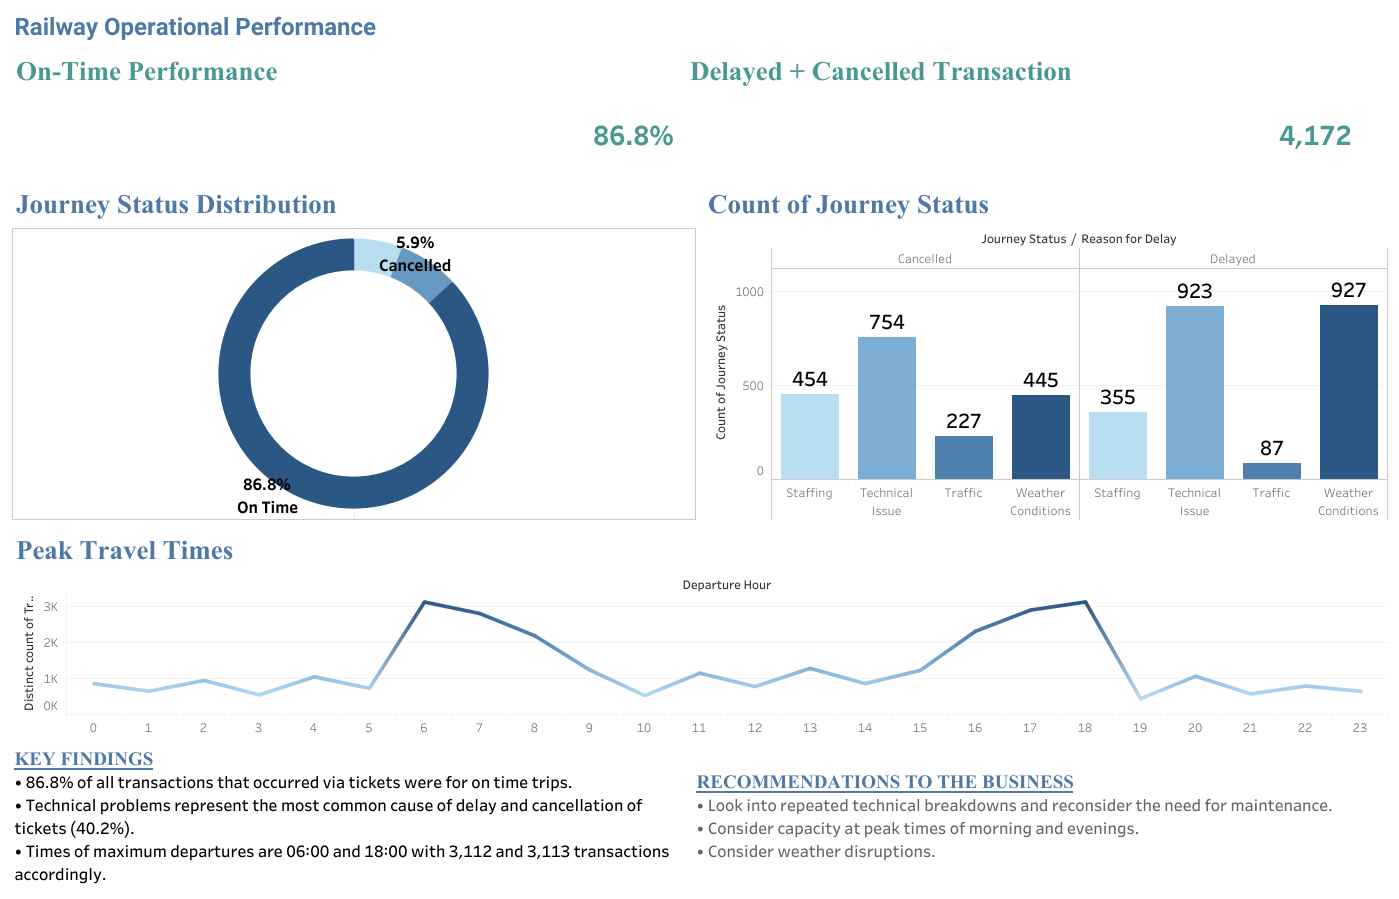

The page's visual inventory and layout, read from the dashboard file:
{"tool":"tableau","page":{"name":"Railway Operational Performance","canvas":[1400,900],"ordinal":0},"visuals":[{"type":"title","box":[8,8,1384,37]},{"type":"worksheet","title":"KPI - On-Time Performance","mark":"Automatic","box":[8,45,674,133.2]},{"type":"worksheet","title":"Sheet 19","mark":"Automatic","box":[682,45,678,133.2]},{"type":"worksheet","title":"Journey Status Distribution","mark":"Pie","cols":["Calculation_0168011082747908","Calculation_0168011082747908"],"box":[8,178.2,692,345.9]},{"type":"worksheet","title":"Contributing Factors","mark":"Automatic","rows":["Journey Status"],"cols":["Journey Status","Reason for Delay"],"box":[700,178.2,692,345.9]},{"type":"worksheet","title":"Peak Travel Times","mark":"Line","rows":["Transaction ID"],"cols":["Calculation_0168011040010243"],"box":[8,524.1,1384,215.9]},{"type":"text","box":[8,740,682,152]},{"type":"text","box":[690,740,702,152]}]}

Visuals, with their boxes in screenshot pixels (x1, y1, x2, y2), scaled from the page's 1400x900 canvas onto the 1399x899 screenshot:
title: BBox(8, 8, 1391, 45)
"KPI - On-Time Performance" worksheet: BBox(8, 45, 682, 178)
"Sheet 19" worksheet: BBox(682, 45, 1359, 178)
"Journey Status Distribution" worksheet (Pie marks): BBox(8, 178, 700, 524)
"Contributing Factors" worksheet: BBox(700, 178, 1391, 524)
"Peak Travel Times" worksheet (Line marks): BBox(8, 524, 1391, 739)
text: BBox(8, 739, 690, 891)
text: BBox(690, 739, 1391, 891)
